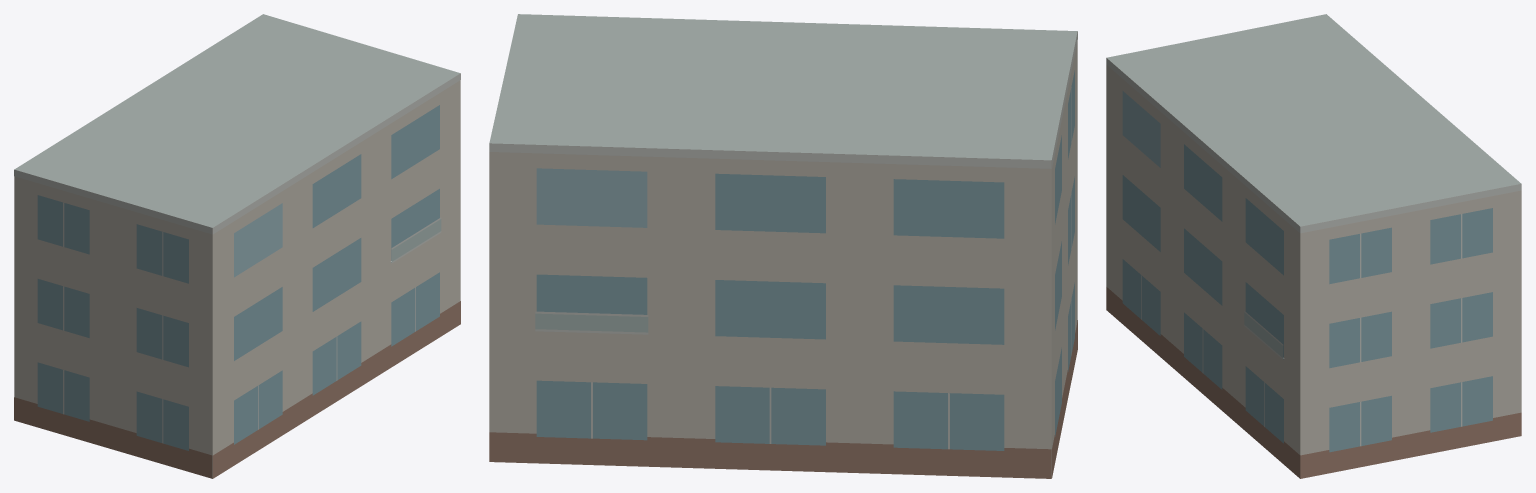
File: survey-upis-32700491.glb
3 views of the same model, side by side, from view 1: azimuth 30°, elevation 25°; view 2: azimuth 150°, elevation 25°; view 3: azimuth 270°, elevation 25° (orthographic). The views are drawn at different scales.
Parts seen in each view (by area): view 1: survey-upis-32700491.tmp; view 2: survey-upis-32700491.tmp; view 3: survey-upis-32700491.tmp.
Part boxes in pixels (x1,y1,x2,y2): survey-upis-32700491.tmp: (14,14,460,478); survey-upis-32700491.tmp: (489,14,1077,478); survey-upis-32700491.tmp: (1106,14,1521,478).
Bounding box in the file's own units: 16.55 × 9.15 × 13.66.
